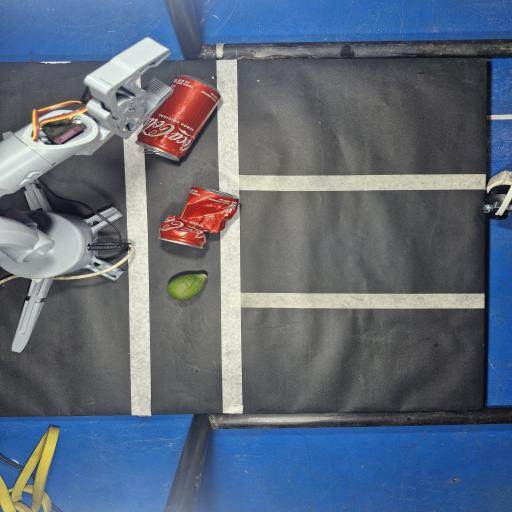higo: (168, 274, 207, 301)
lata: (137, 76, 220, 161)
lata_defectuoso: (160, 187, 239, 247)
